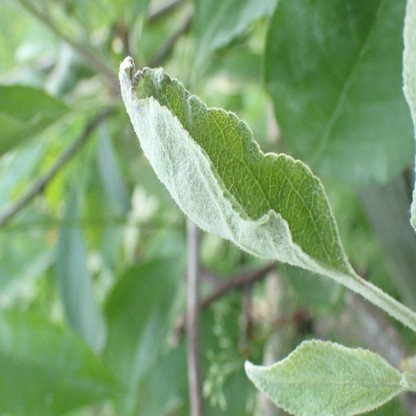powdery_mildew: (119, 55, 350, 284), (243, 339, 404, 415), (283, 1, 338, 76), (293, 128, 311, 153), (266, 77, 285, 91), (286, 98, 299, 111)
